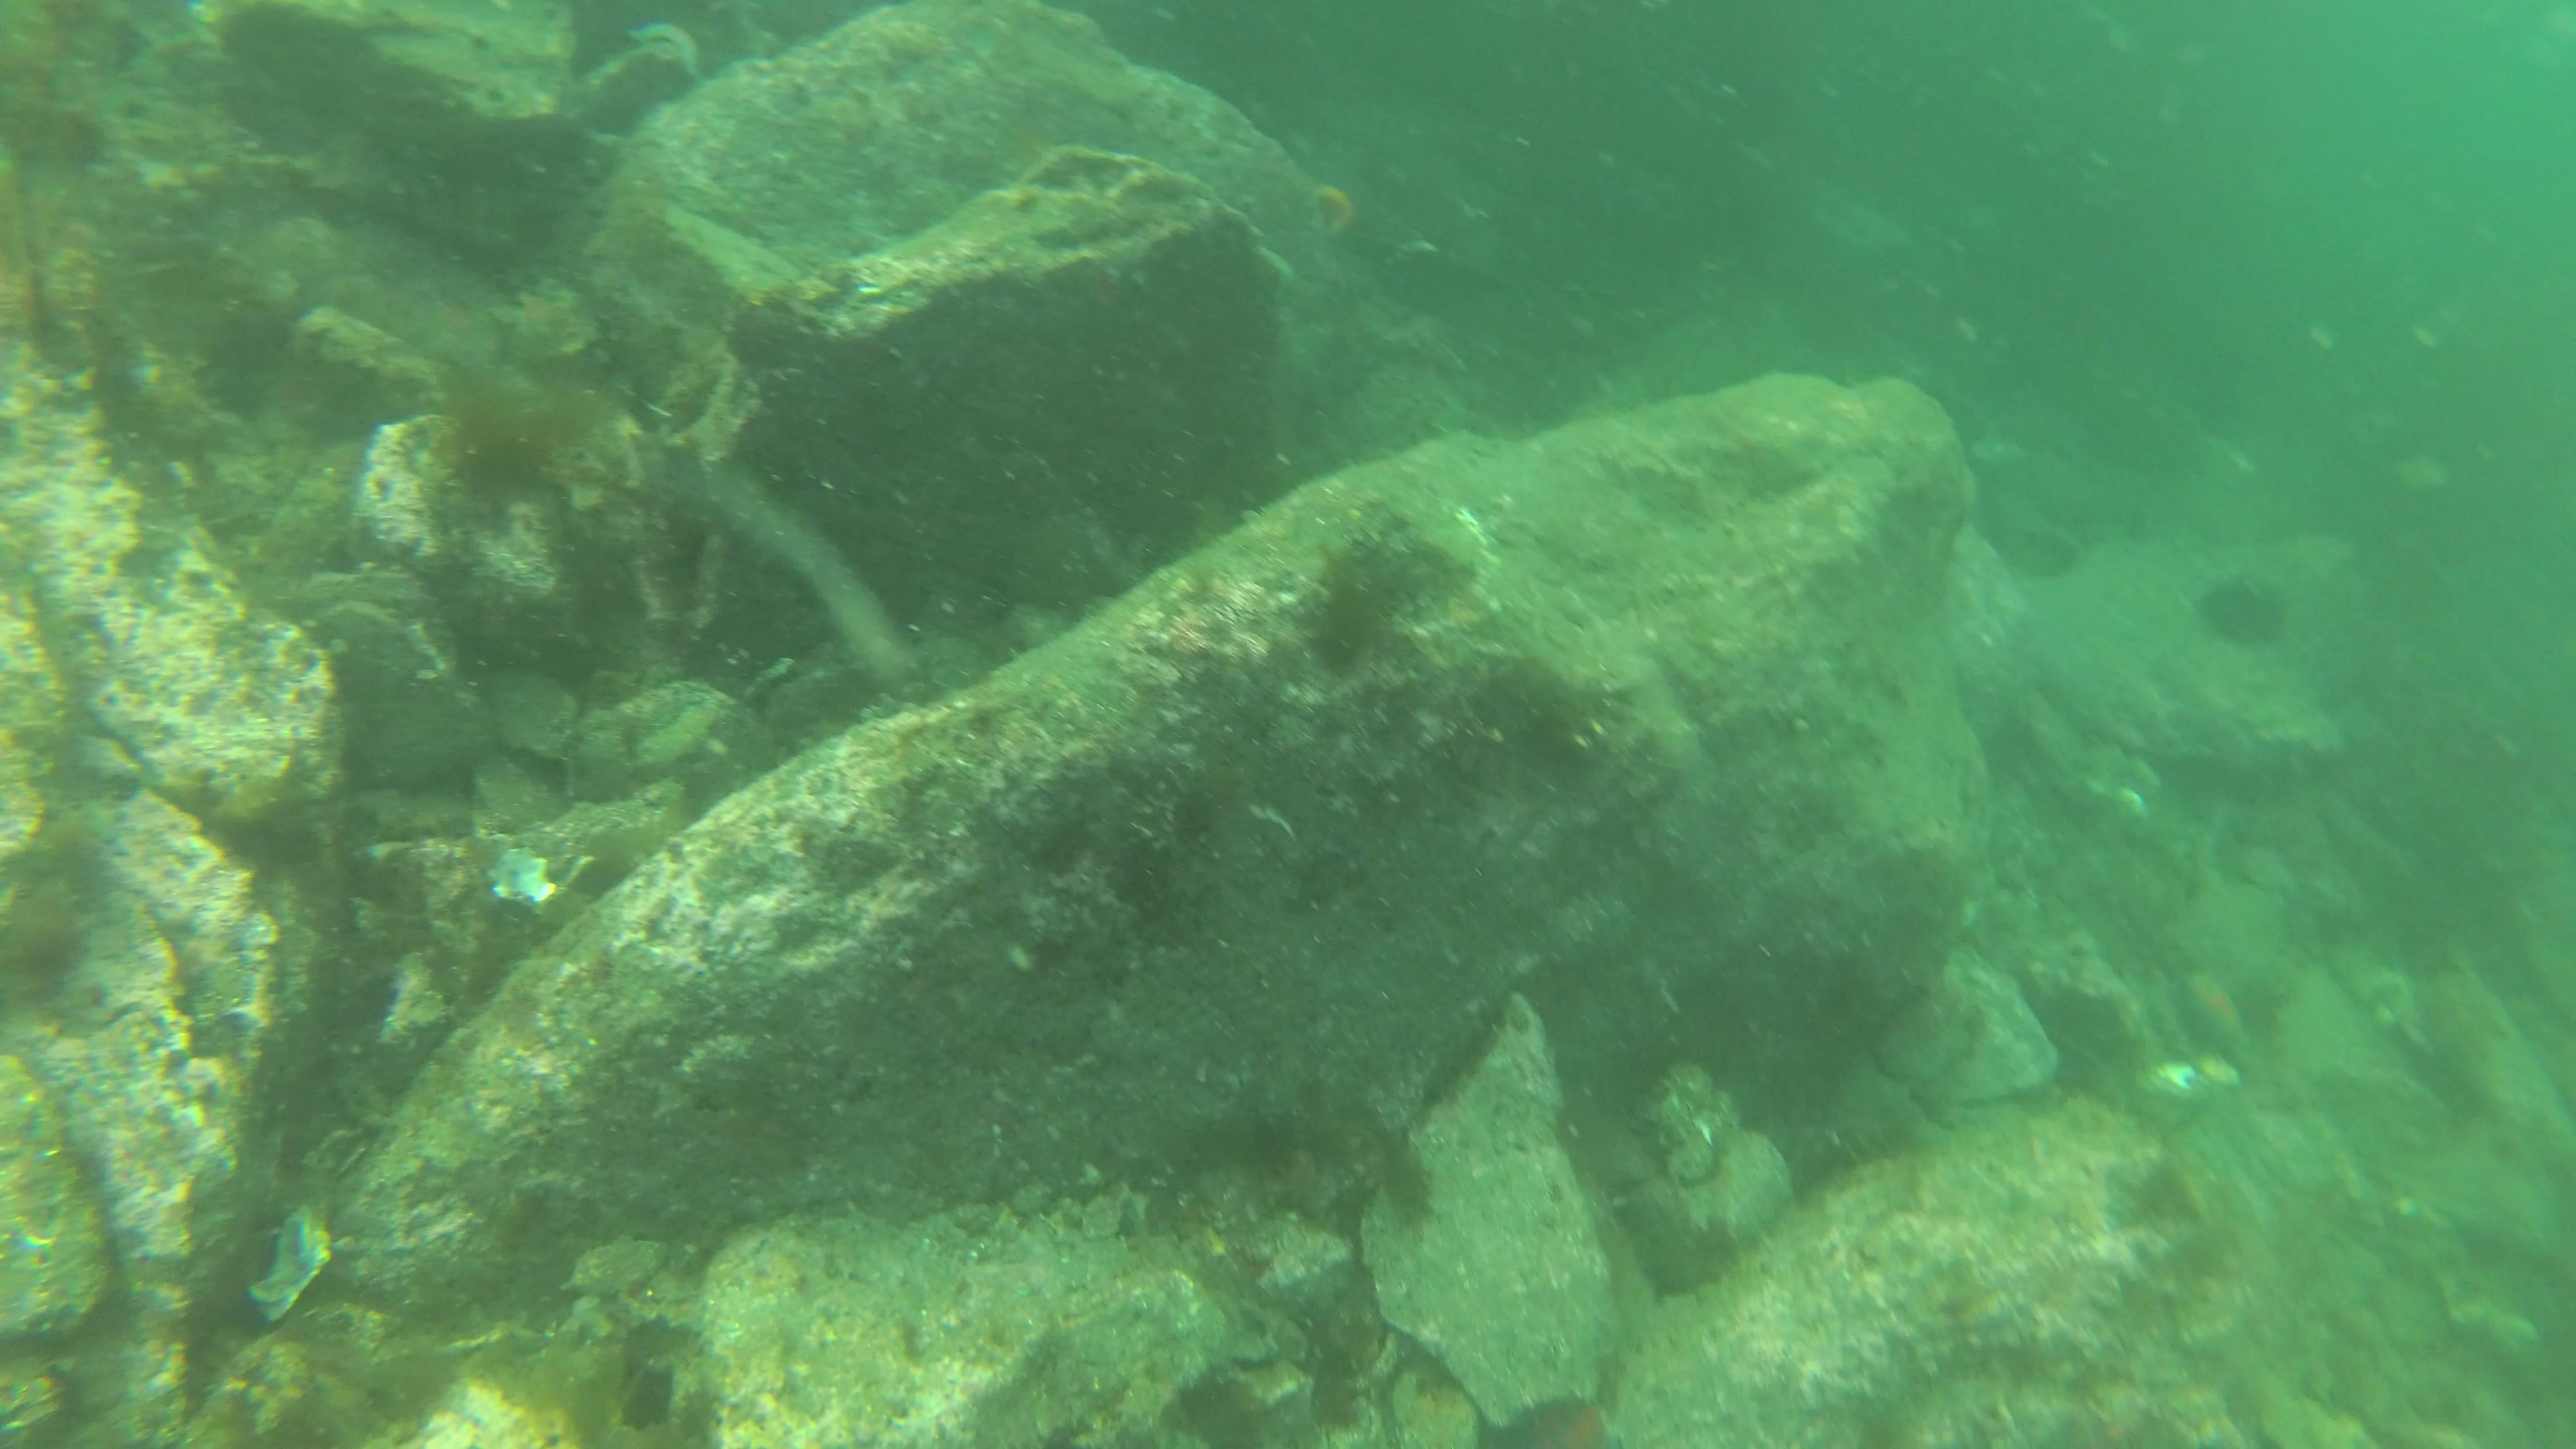echinus: (2199, 568, 2286, 648)
starfish: (2181, 966, 2261, 1062)
